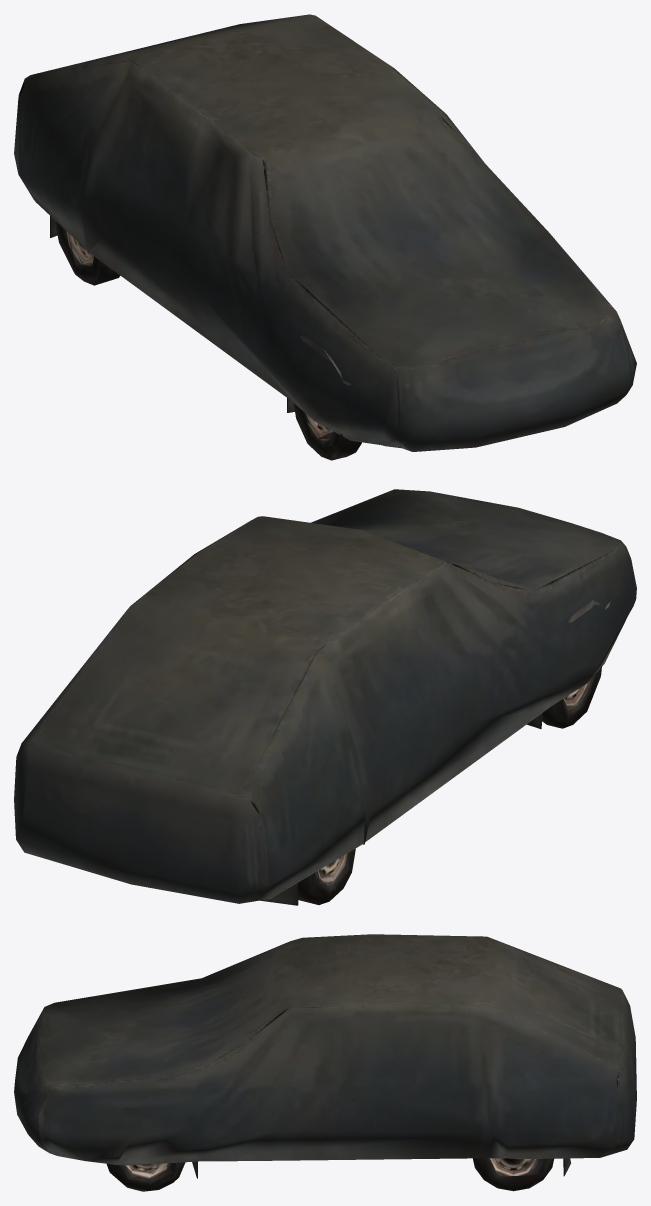
Rendered from covered_car.glb.
3 views of the same model, one above another, from view 1: azimuth 30°, elevation 25°; view 2: azimuth 150°, elevation 25°; view 3: azimuth 270°, elevation 25° (orthographic). The views are drawn at different scales.
Visible parts, largest first — view 1: covered_car_wheel_01; view 2: covered_car_wheel_01; view 3: covered_car_wheel_01.
Part boxes in pixels (left/top/right/bottom): covered_car_wheel_01: left=14, top=14, right=636, bottom=460; covered_car_wheel_01: left=14, top=489, right=636, bottom=905; covered_car_wheel_01: left=14, top=934, right=636, bottom=1191.
Size of the model in its own units: 1.79 by 1.41 by 4.38.
Materials: 1 (1 with a texture image).
